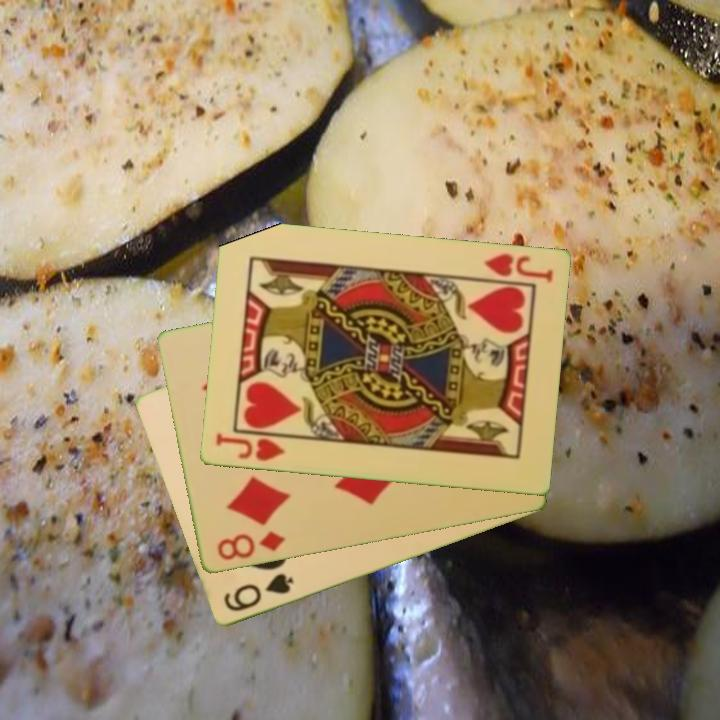6s: (220, 570, 297, 615)
8d: (213, 528, 288, 564)
Jh: (211, 429, 295, 465), (480, 250, 555, 287)
